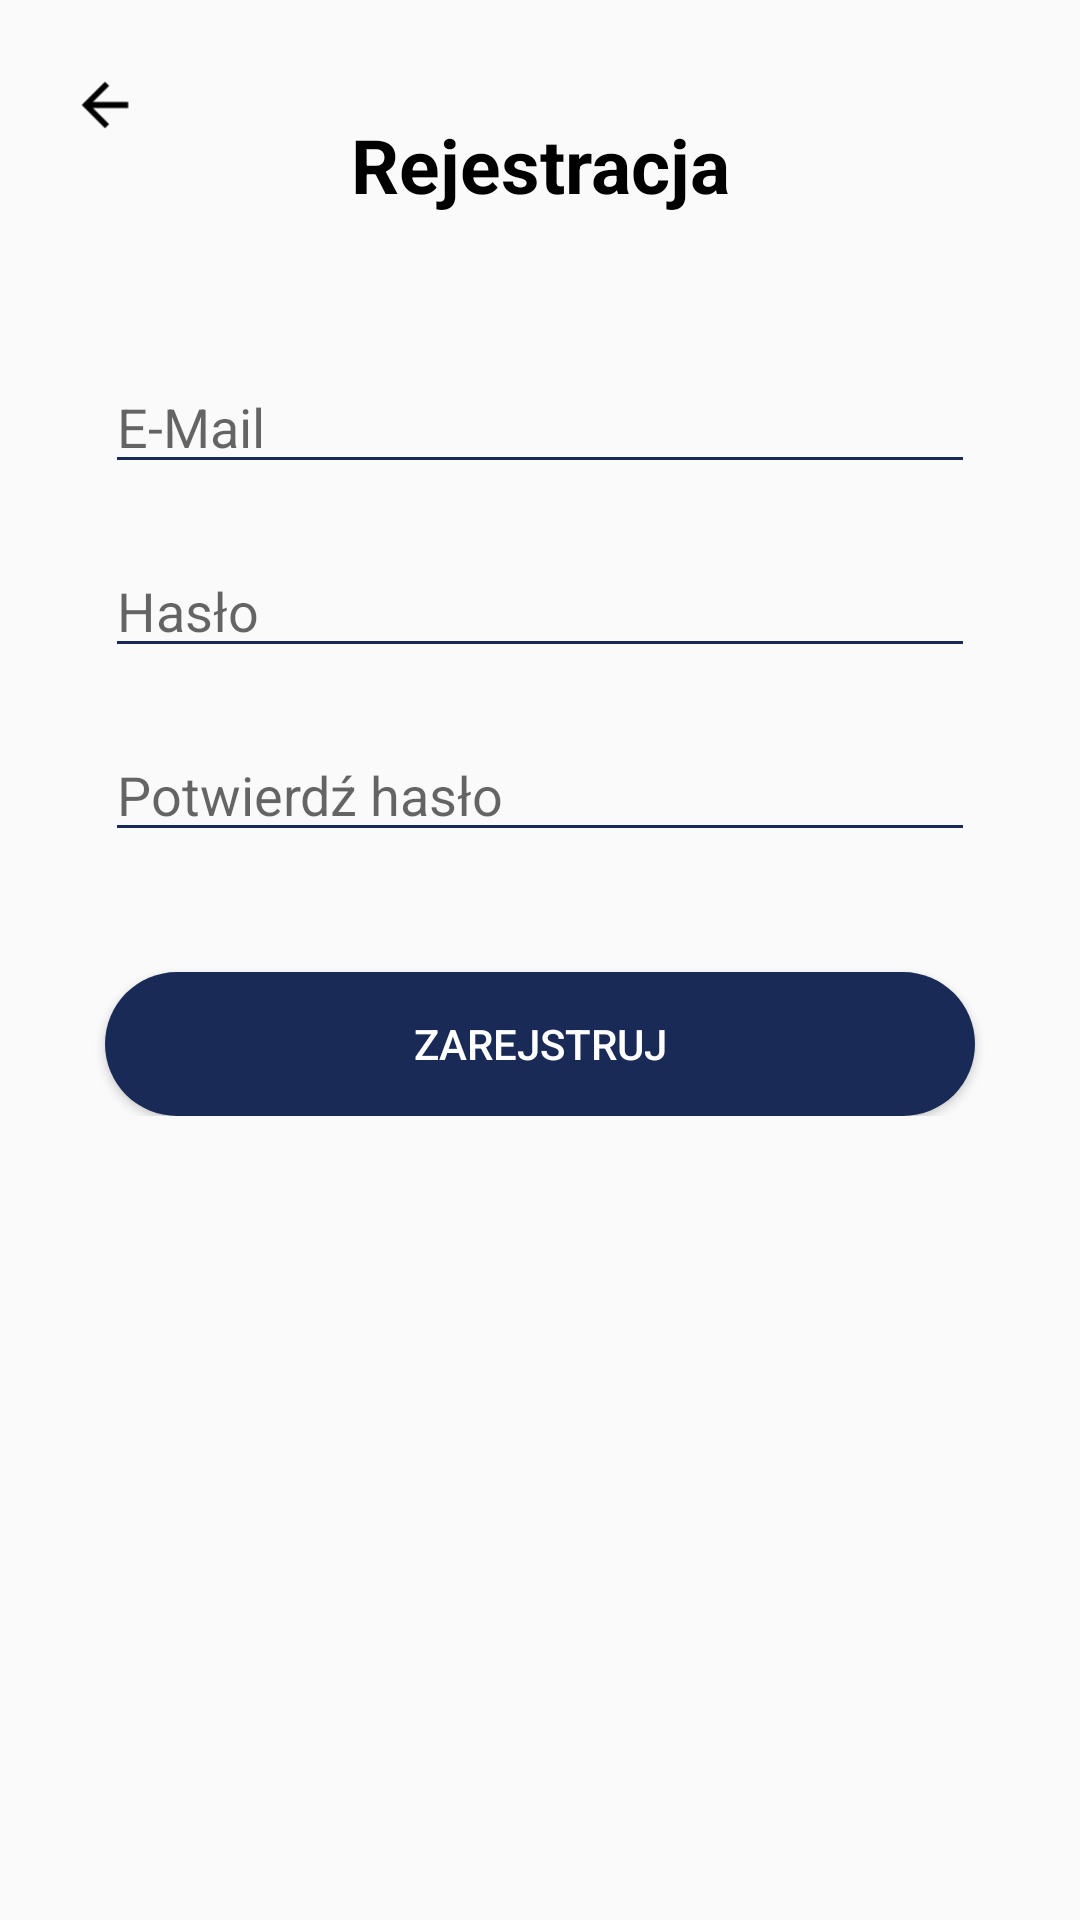

Named icons in this screenshot (1080w x 1920h) and their centers, [x,y]:
back: [105,105]
